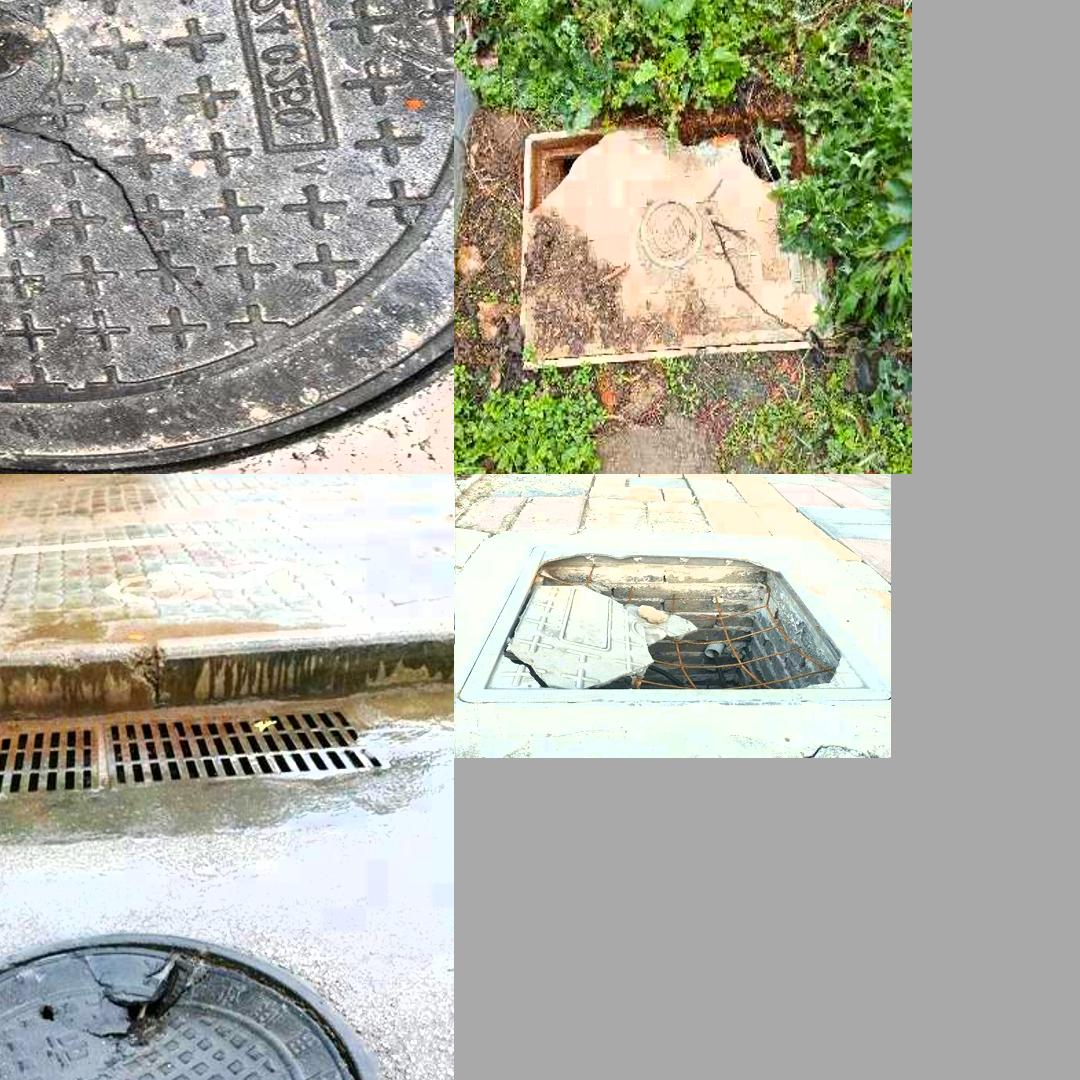broke: (0, 0, 443, 470), (520, 116, 851, 371), (476, 540, 850, 723), (0, 912, 407, 1080)
